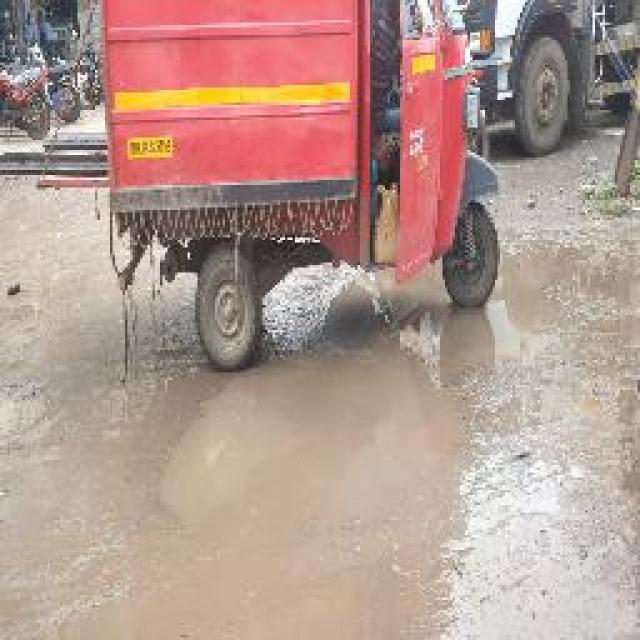stagnation: (158, 376, 485, 542)
